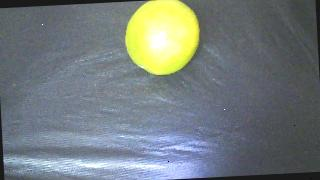LOCAL: (123, 0, 201, 77)
